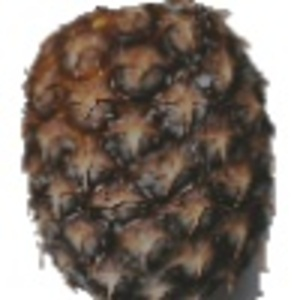abacaxi: (12, 2, 280, 296)
